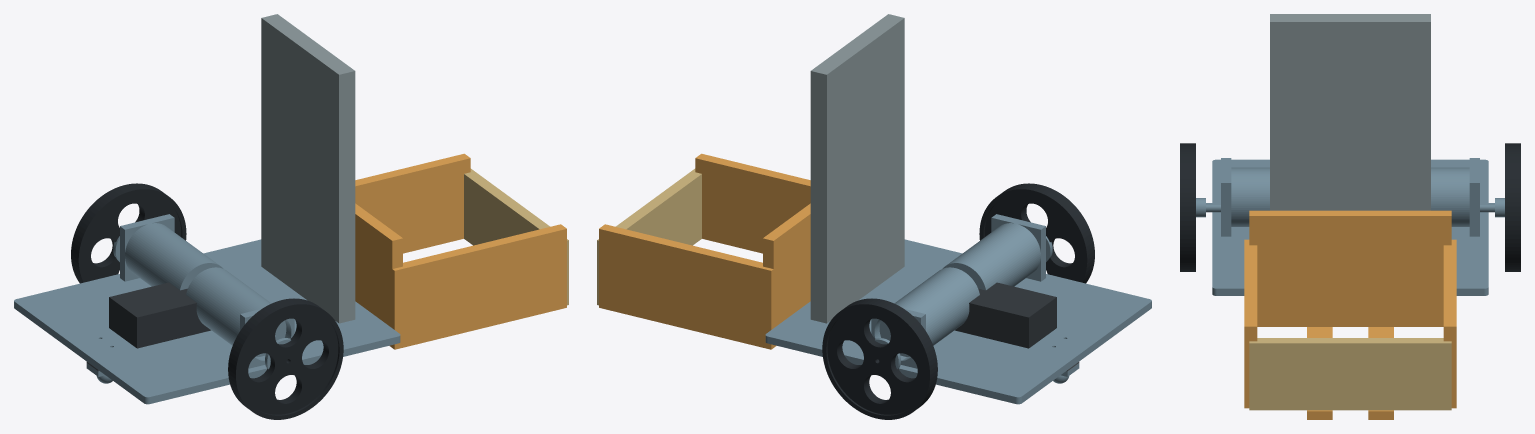
File: assembly.glb
3 views of the same model, side by side, from view 1: azimuth 30°, elevation 25°; view 2: azimuth 150°, elevation 25°; view 3: azimuth 270°, elevation 25° (orthographic). The views are drawn at different scales.
Visible parts, largest first — view 1: mast, deck, tray-side-1, tray-side--1, left-wheel-rim, battery-reservation, right-motor-housing, tray-back, gate, left-motor-housing, left-wheel-tire, right-wheel-rim (+3 smaller); view 2: mast, deck, tray-side--1, tray-side-1, right-wheel-rim, battery-reservation, tray-back, left-motor-housing, gate, right-motor-housing, right-wheel-tire, left-wheel-rim (+3 smaller); view 3: mast, tray-back, gate, deck, left-wheel-tire, right-wheel-tire, left-motor-housing, right-motor-housing, tray-side--1, tray-side-1, left-bracket-body, right-bracket-body (+2 smaller).
Part boxes in pixels (box(x1,y1,x2,y2)): mast: box(261, 14, 355, 323); deck: box(14, 239, 400, 404); tray-side-1: box(388, 224, 566, 349); tray-side--1: box(355, 153, 470, 253); left-wheel-rim: box(240, 308, 338, 414); battery-reservation: box(109, 282, 210, 348); right-motor-housing: box(125, 223, 223, 290); tray-back: box(355, 203, 402, 324); gate: box(464, 168, 568, 305); left-motor-housing: box(186, 267, 286, 356); left-wheel-tire: box(228, 298, 343, 419); right-wheel-rim: box(82, 193, 181, 281); mast: box(810, 14, 904, 323); deck: box(765, 239, 1151, 404); tray-side--1: box(599, 224, 773, 349); tray-side-1: box(695, 153, 810, 253); right-wheel-rim: box(827, 308, 925, 414); battery-reservation: box(955, 282, 1056, 348); tray-back: box(763, 203, 810, 347); left-motor-housing: box(942, 223, 1040, 290); gate: box(597, 168, 701, 305); right-motor-housing: box(879, 267, 979, 356); right-wheel-tire: box(822, 298, 937, 419); left-wheel-rim: box(984, 193, 1083, 281); mast: box(1270, 14, 1430, 210); tray-back: box(1249, 210, 1451, 326); gate: box(1249, 338, 1451, 410); deck: box(1212, 159, 1488, 295); left-wheel-tire: box(1180, 143, 1195, 271); right-wheel-tire: box(1505, 143, 1520, 271); left-motor-housing: box(1231, 167, 1269, 226); right-motor-housing: box(1431, 167, 1469, 226); tray-side--1: box(1443, 239, 1456, 408); tray-side-1: box(1244, 239, 1257, 408); left-bracket-body: box(1221, 158, 1231, 236); right-bracket-body: box(1469, 158, 1479, 236).
Bounding box in the file's own units: 0.327 × 0.205 × 0.212.
